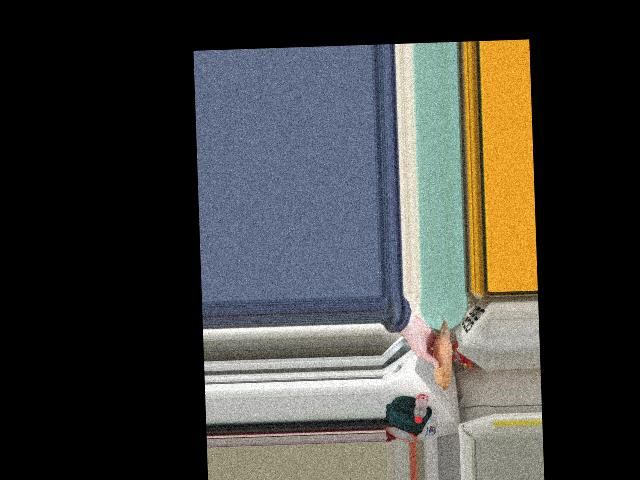sweet_potato: (429, 325, 452, 382)
